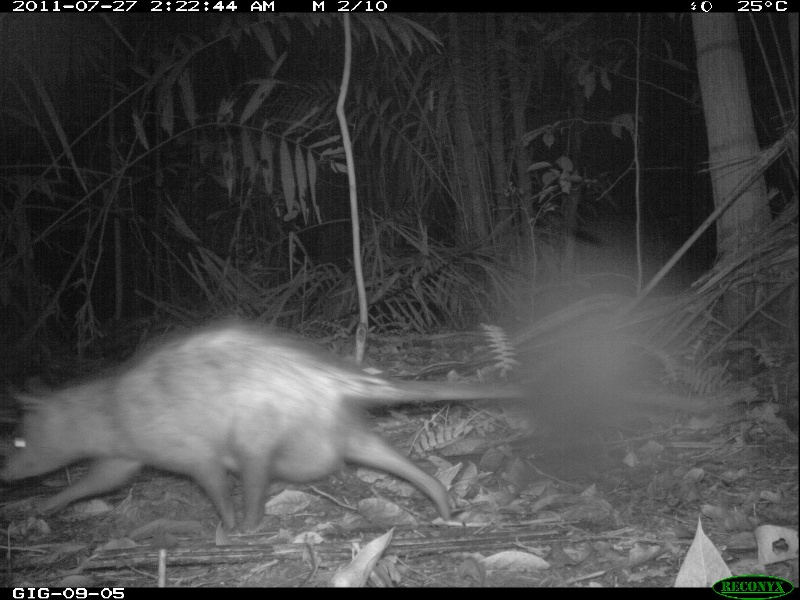opossum: (1, 315, 548, 536)
